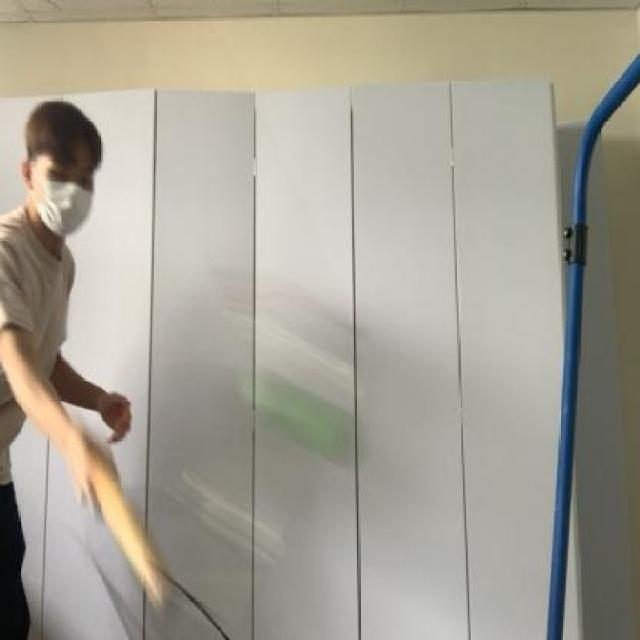baseball: (228, 348, 370, 478)
